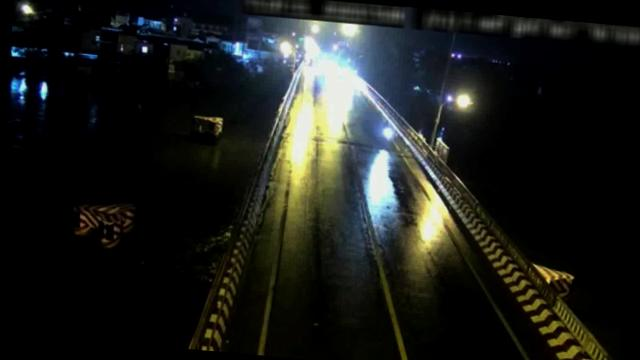Bike: (380, 121, 395, 142)
